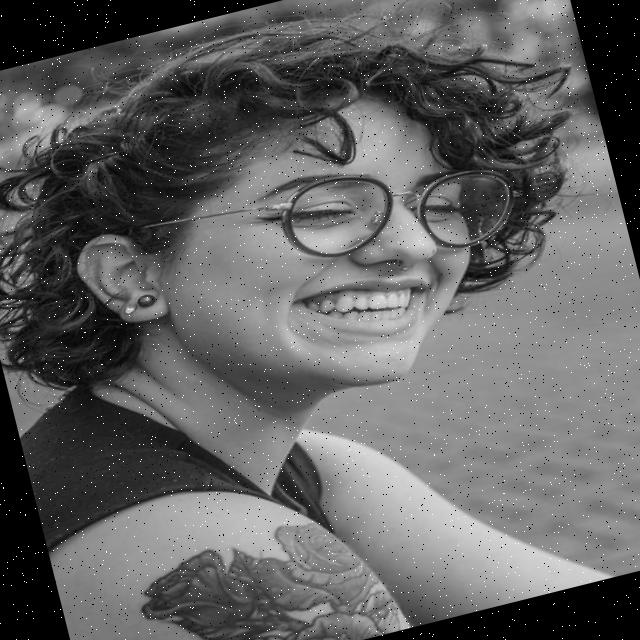Happiness: (118, 61, 515, 438)
